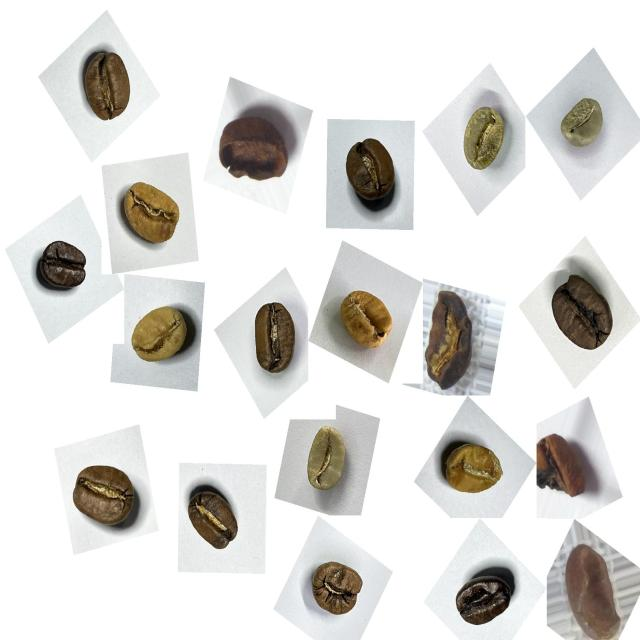bad: (213, 93, 302, 196), (551, 532, 631, 636), (410, 284, 480, 396), (529, 424, 603, 511)
dark: (448, 558, 522, 640), (31, 230, 97, 306)
green: (292, 419, 360, 510), (446, 98, 514, 182), (550, 84, 612, 162)
light: (110, 166, 188, 259), (435, 427, 513, 511), (122, 294, 198, 379), (328, 279, 402, 365)
medium: (543, 268, 625, 364), (64, 454, 148, 540), (333, 128, 405, 221), (239, 295, 309, 389), (72, 43, 144, 131), (178, 479, 250, 564), (304, 552, 374, 628)
